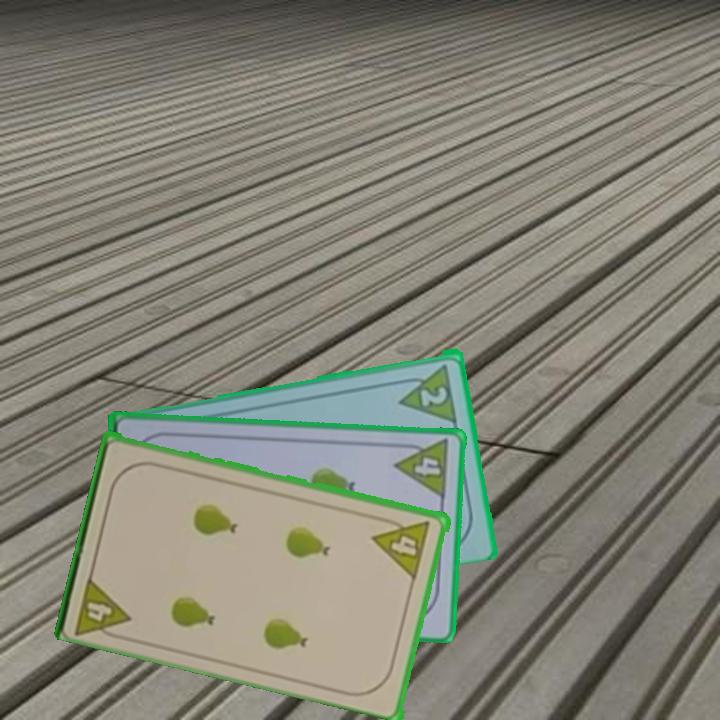2p: (393, 360, 460, 424)
4p: (71, 570, 135, 644), (370, 512, 434, 581), (391, 436, 452, 501)
